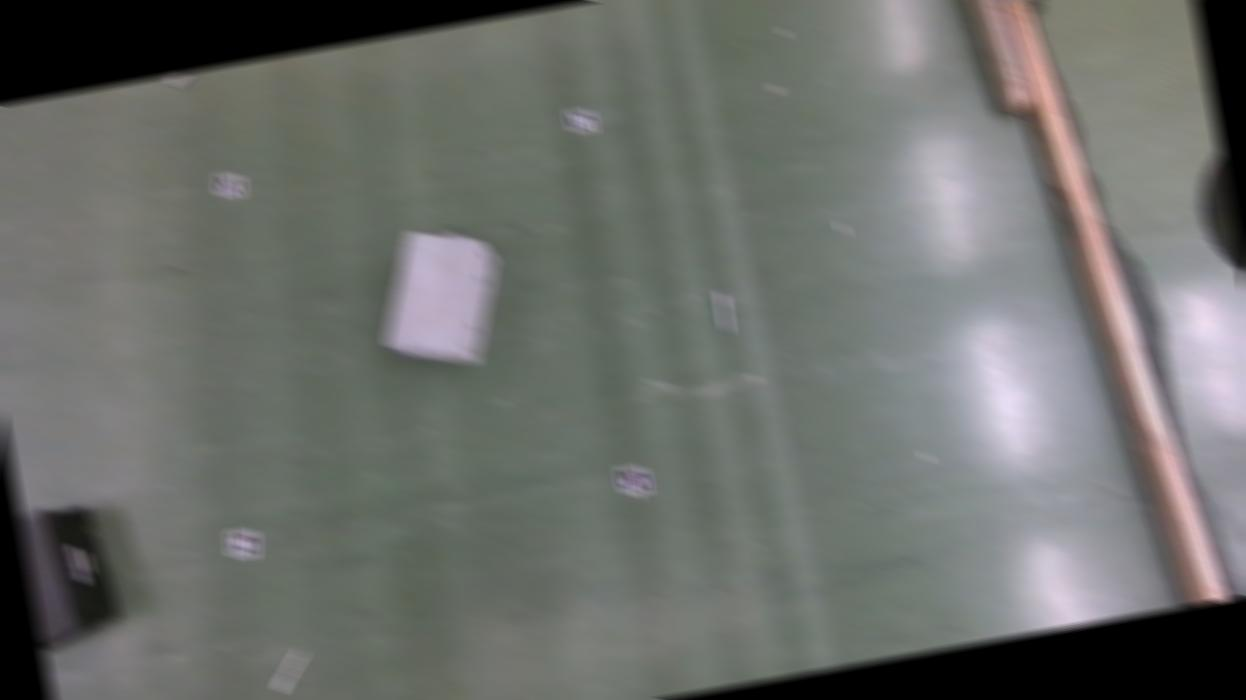probes: (270, 648, 312, 694), (714, 290, 736, 336), (166, 70, 200, 87)
rako: (365, 218, 515, 381), (17, 500, 123, 653)
